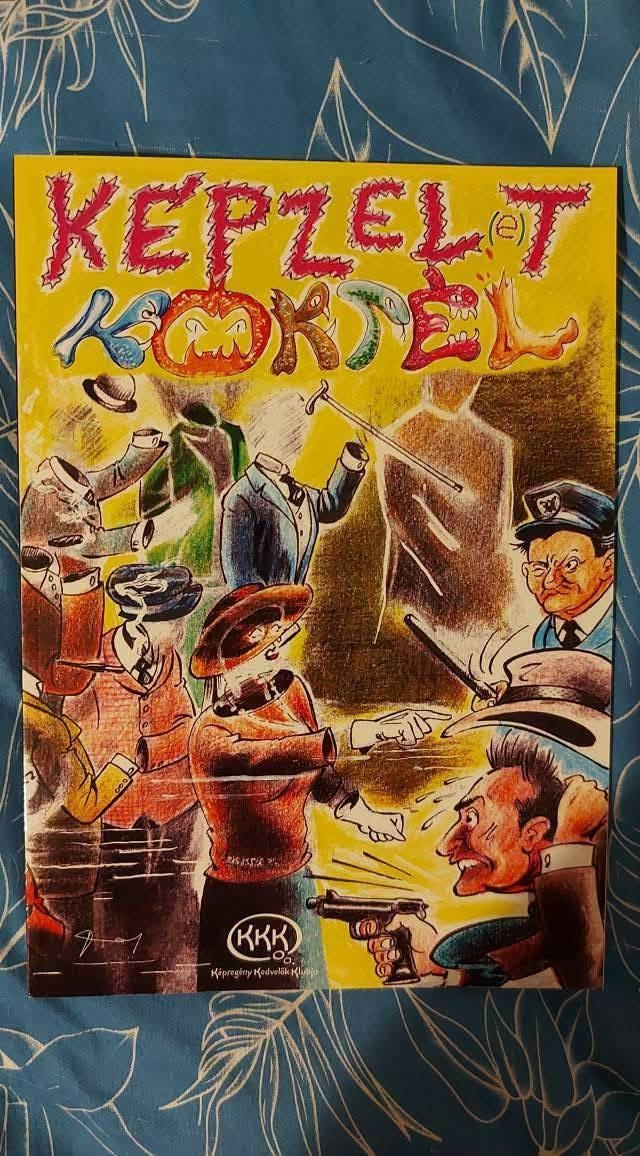comic: (15, 150, 624, 994)
